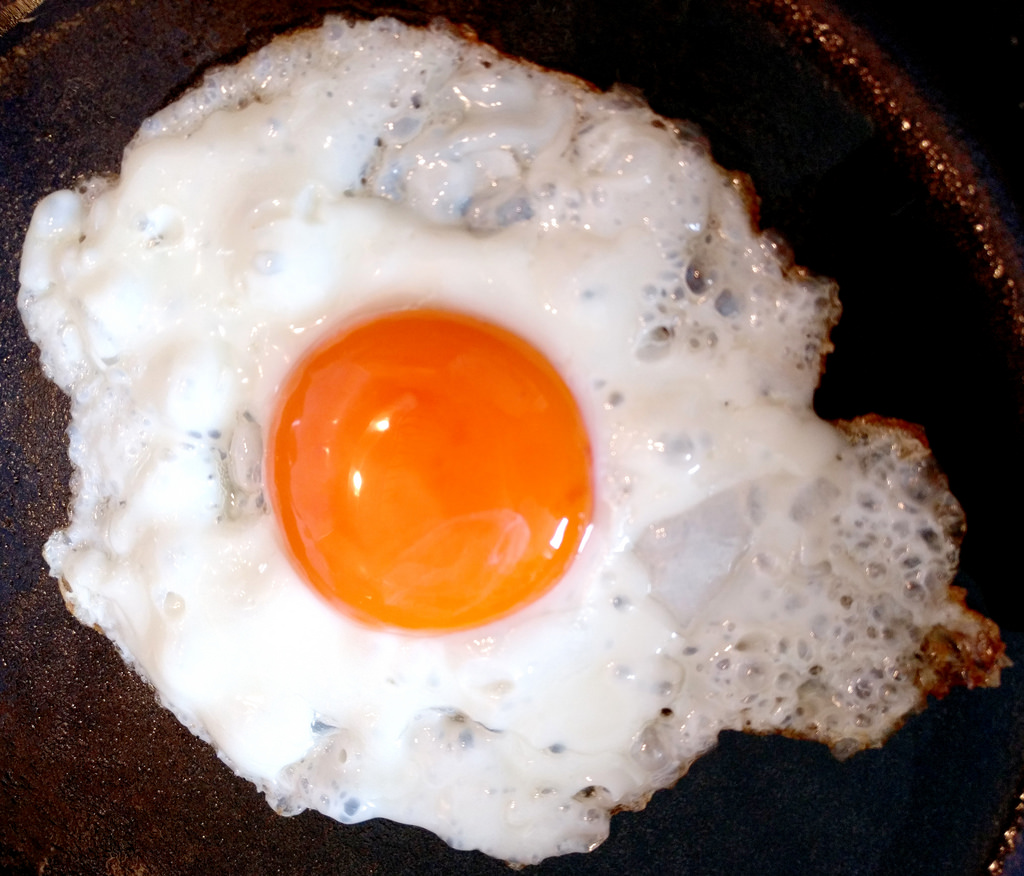fried egg: (34, 36, 1017, 876)
